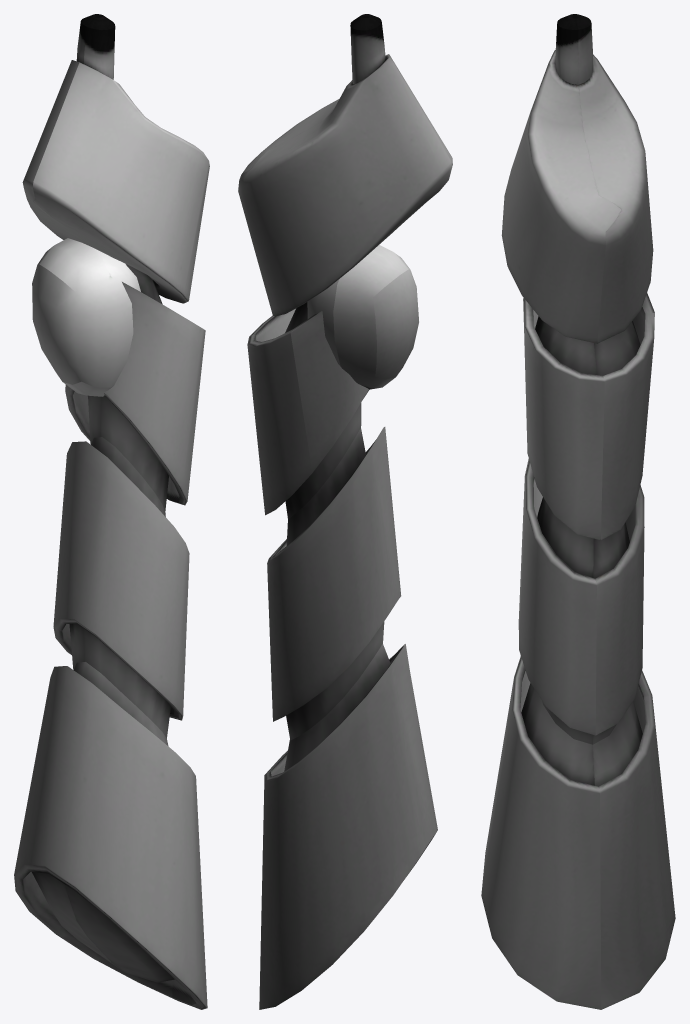
Rendered from PodASeries01.obj.
The picture shows the model from 3 angles, left to right: view 1: azimuth 30°, elevation 25°; view 2: azimuth 150°, elevation 25°; view 3: azimuth 270°, elevation 25°; orthographic projection. The views are drawn at different scales.
Visible parts, largest first — view 1: Body_Untitled.008, BodyGlow_Untitled.012, Head_Untitled.015; view 2: Body_Untitled.008, BodyGlow_Untitled.012, Head_Untitled.015; view 3: Body_Untitled.008, BodyGlow_Untitled.012.
Boxes of the visible parts, bbox=[...] form: Body_Untitled.008: bbox=[14, 60, 209, 1009]; BodyGlow_Untitled.012: bbox=[32, 14, 174, 982]; Head_Untitled.015: bbox=[32, 238, 140, 396]; Body_Untitled.008: bbox=[238, 54, 452, 1009]; BodyGlow_Untitled.012: bbox=[284, 14, 390, 771]; Head_Untitled.015: bbox=[307, 245, 418, 389]; Body_Untitled.008: bbox=[481, 50, 675, 1009]; BodyGlow_Untitled.012: bbox=[521, 14, 642, 786].
Size of the model in its own units: 0.2994 by 1.53 by 0.2829.
2 materials, 2 textured.
